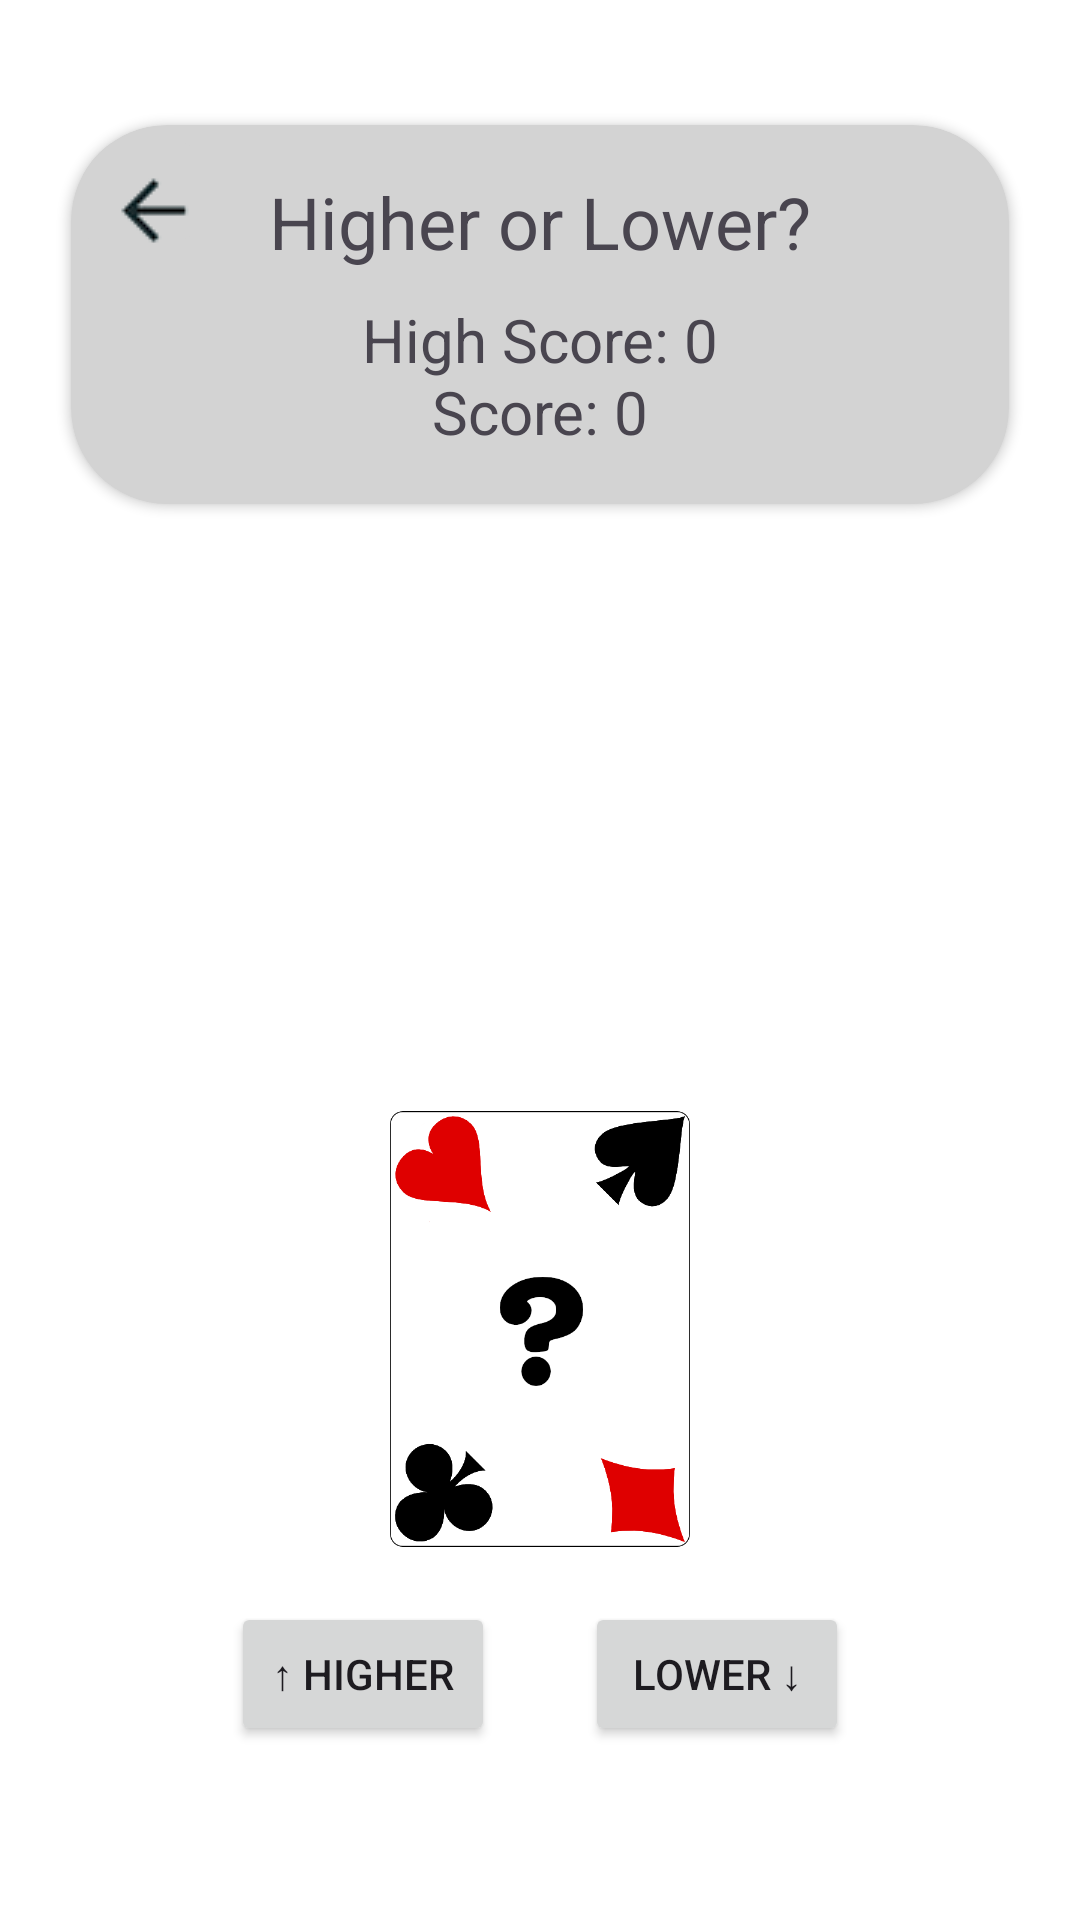

Screen size 1080x1920. Icon name, then its center in pixels as (x,y):
back arrow: (137,191)
